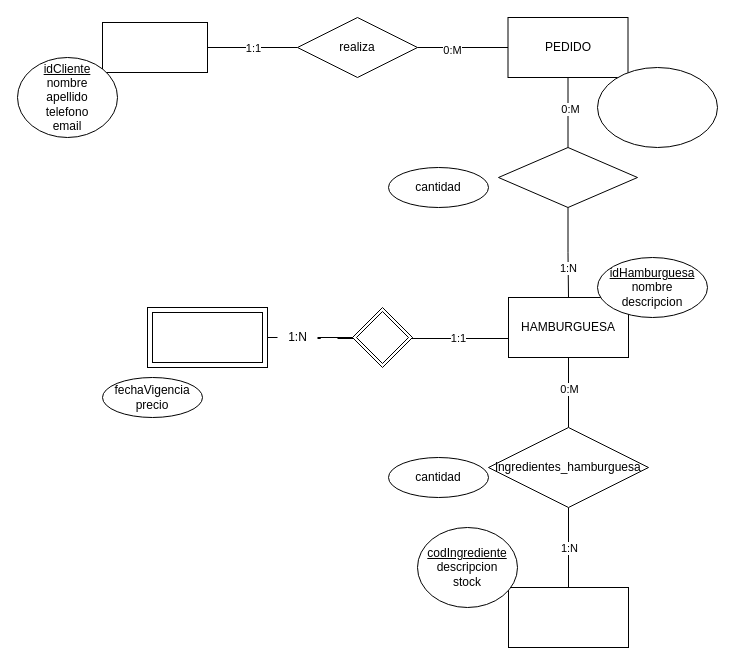
Image size: 735x665. Some labels were removed from this diagram. The shapes that lost their labels are listed below. From the top down, each one's centre as x and y in pixels, then its label:
At point 155,47: "CLIENTE".
At point 657,107: "nroPedido modalidad montototal estado".
At point 568,177: "hamburguesas_pedido".
At point 207,337: "PRECIO".
At point 568,617: "INGREDIENTES".
